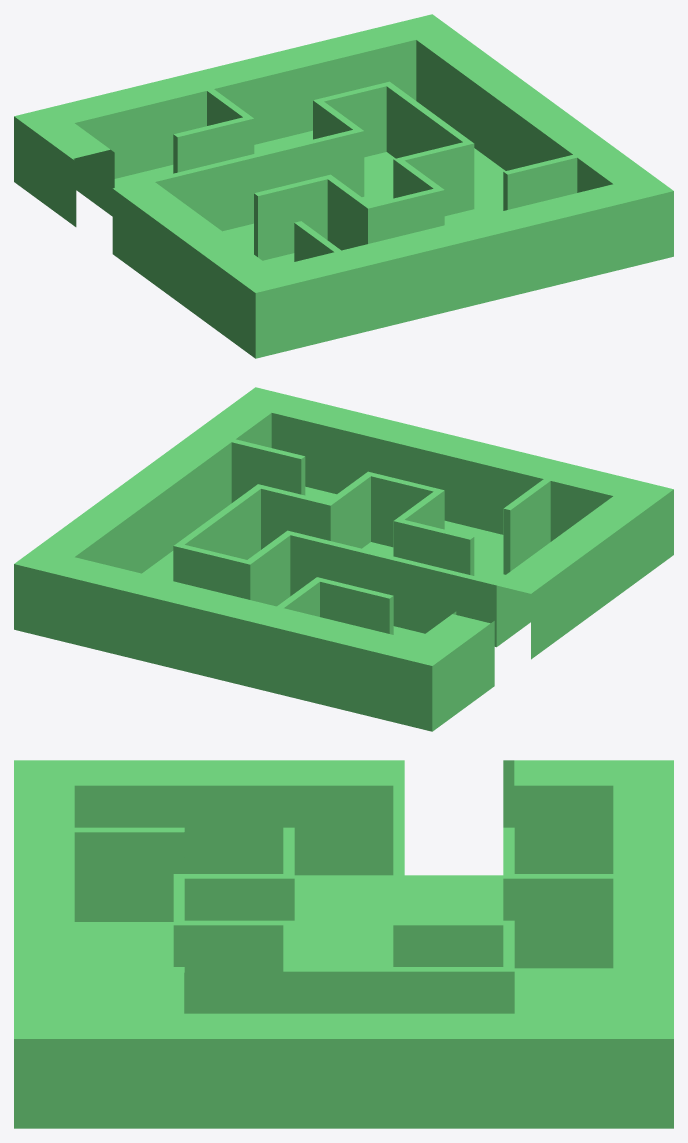
Rendered from maze.glb.
3 renders of one model, top to bottom at view 1: azimuth 30°, elevation 25°; view 2: azimuth 150°, elevation 25°; view 3: azimuth 270°, elevation 25°, orthographic. The views are drawn at different scales.
Visible parts, largest first — view 1: Maze; view 2: Maze; view 3: Maze.
Boxes of the visible parts, x1,y1,x2,y2 form: Maze: [14, 14, 673, 358]; Maze: [14, 387, 673, 731]; Maze: [14, 760, 673, 1128].
Size of the model in its own units: 200 by 30 by 200.
